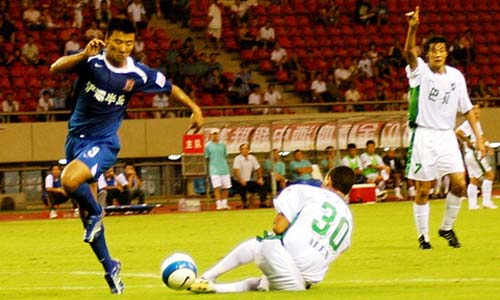10+: (1, 1, 500, 300)
down: (162, 167, 356, 297)
